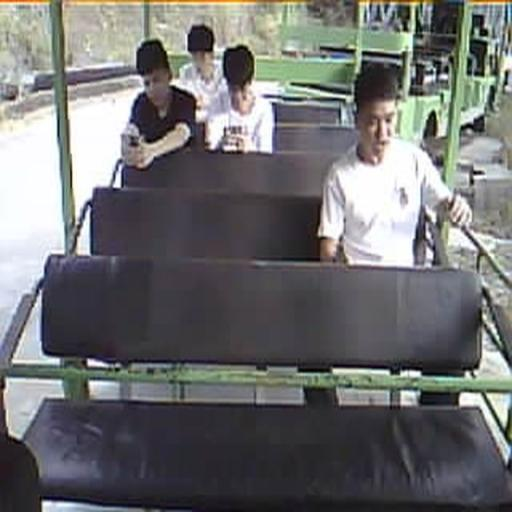persona: (317, 63, 473, 268), (120, 37, 199, 171), (205, 44, 275, 154), (176, 23, 230, 119)
